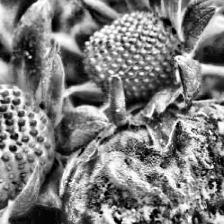Gray Mold: (58, 83, 223, 224)
